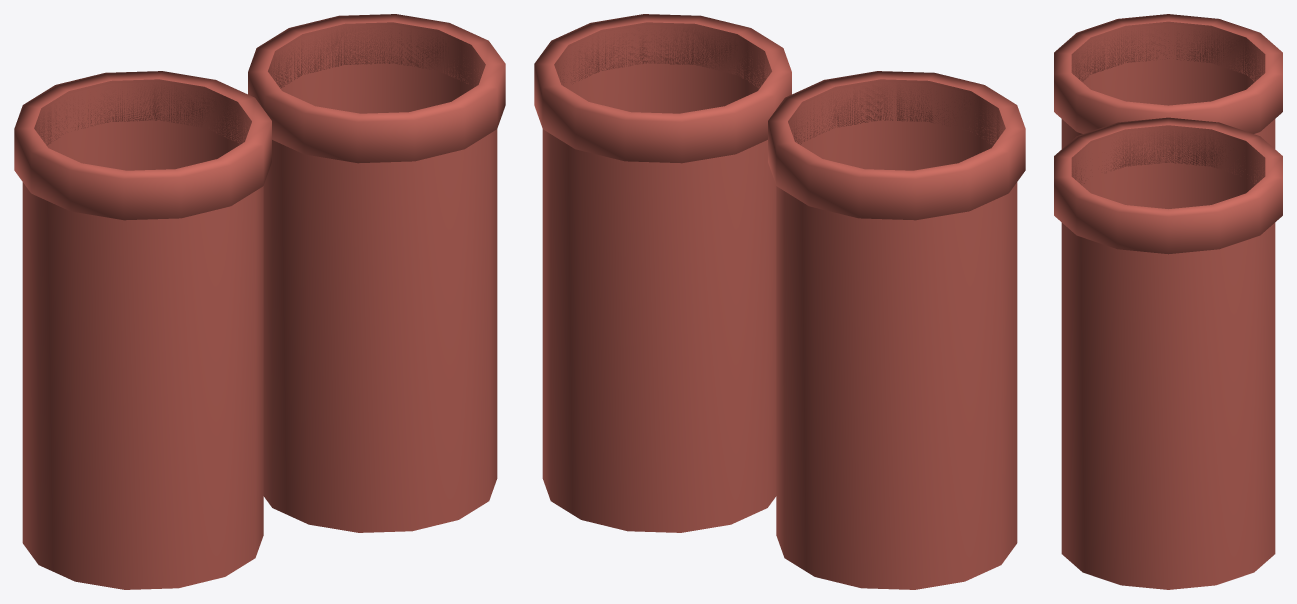
File: semi_opaque_tights.glb
3 views of the same model, side by side, from view 1: azimuth 30°, elevation 25°; view 2: azimuth 150°, elevation 25°; view 3: azimuth 270°, elevation 25° (orthographic). The views are drawn at different scales.
Visible parts, largest first — view 1: semi_opaque_tights_LegL, semi_opaque_tights_LegR; view 2: semi_opaque_tights_LegL, semi_opaque_tights_LegR; view 3: semi_opaque_tights_LegR, semi_opaque_tights_LegL.
Part boxes in pixels (bbox=[...]): semi_opaque_tights_LegL: bbox=[14, 71, 271, 589]; semi_opaque_tights_LegR: bbox=[248, 14, 505, 532]; semi_opaque_tights_LegL: bbox=[768, 71, 1025, 589]; semi_opaque_tights_LegR: bbox=[534, 14, 791, 532]; semi_opaque_tights_LegR: bbox=[1054, 117, 1282, 589]; semi_opaque_tights_LegL: bbox=[1054, 14, 1282, 148].
Size of the model in its own units: 0.372 by 0.322 by 0.1774.
